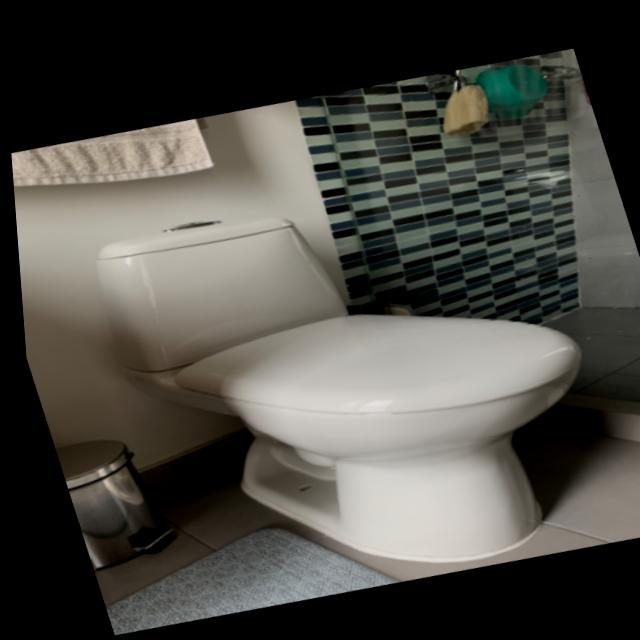toilet: (71, 131, 639, 636)
